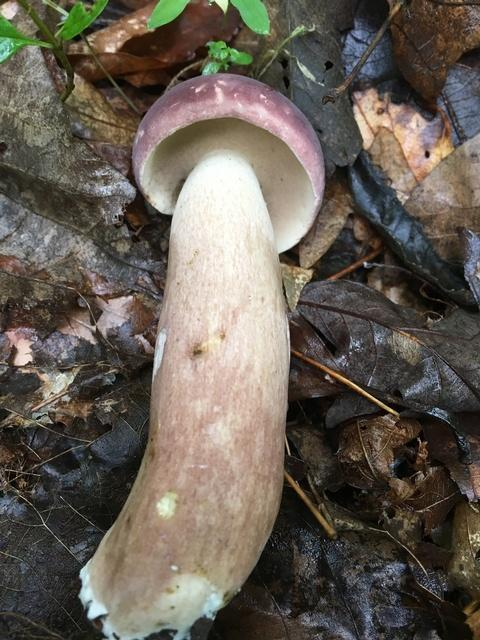poisonous_mushroom: (76, 71, 326, 638)
